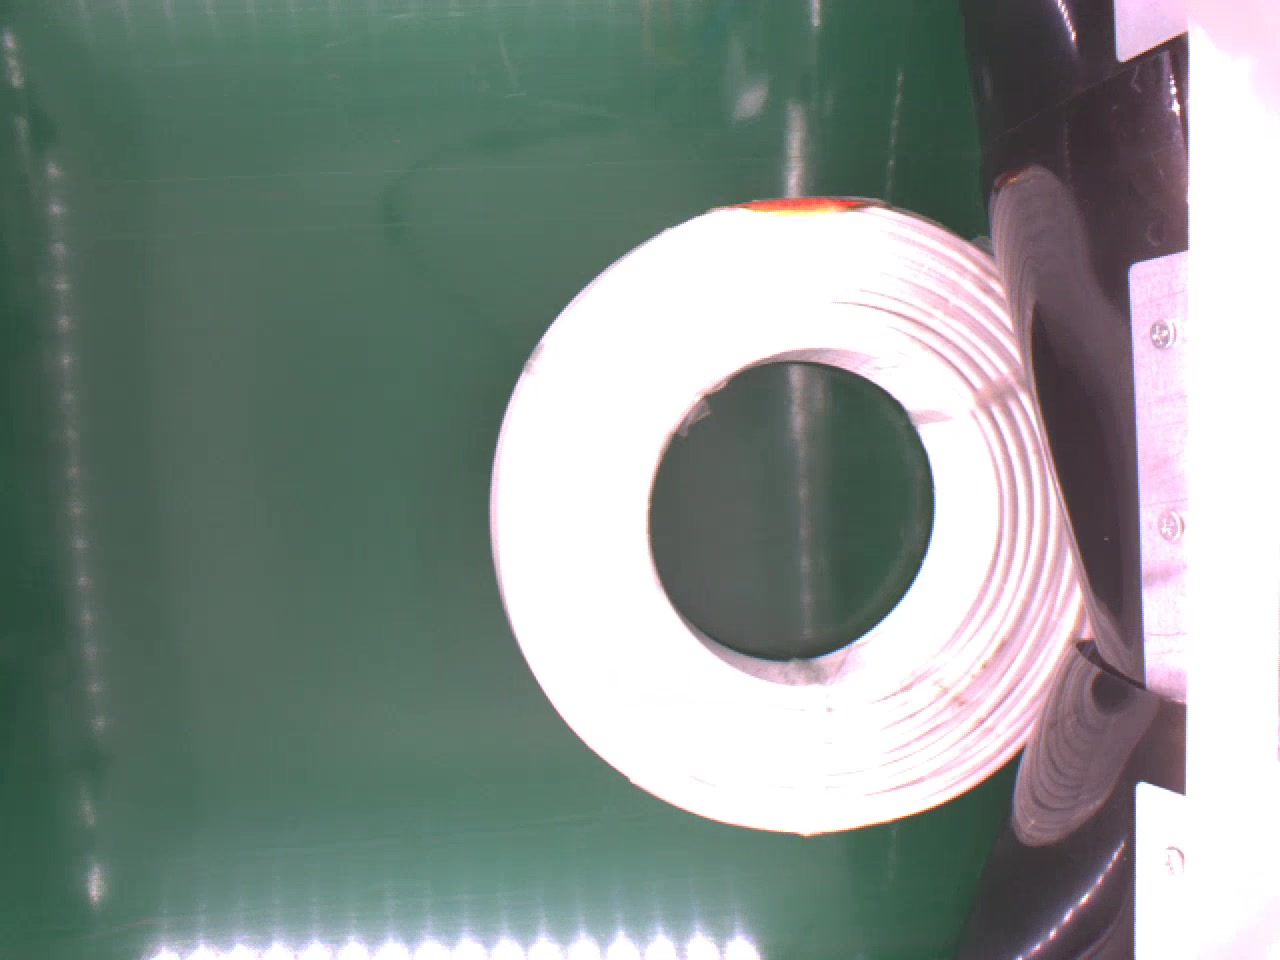white: (484, 185, 1098, 835)
